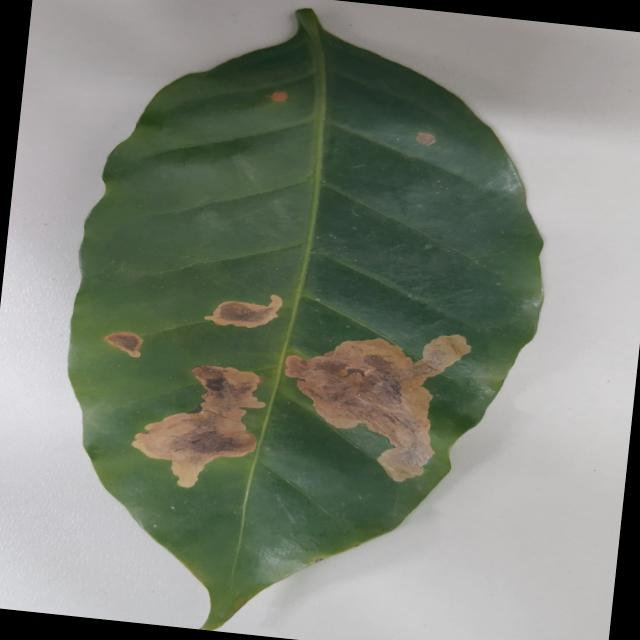PengorokDaunKopi: (284, 334, 470, 481), (132, 365, 265, 487), (204, 295, 281, 327), (103, 331, 142, 357), (416, 132, 435, 145), (268, 91, 288, 102)
